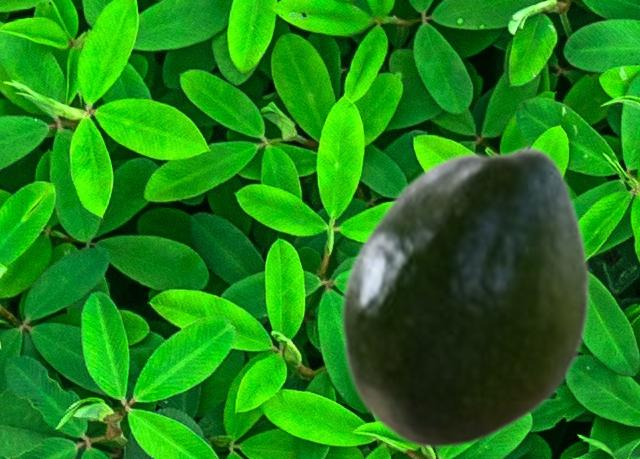avocado: (338, 144, 590, 449)
